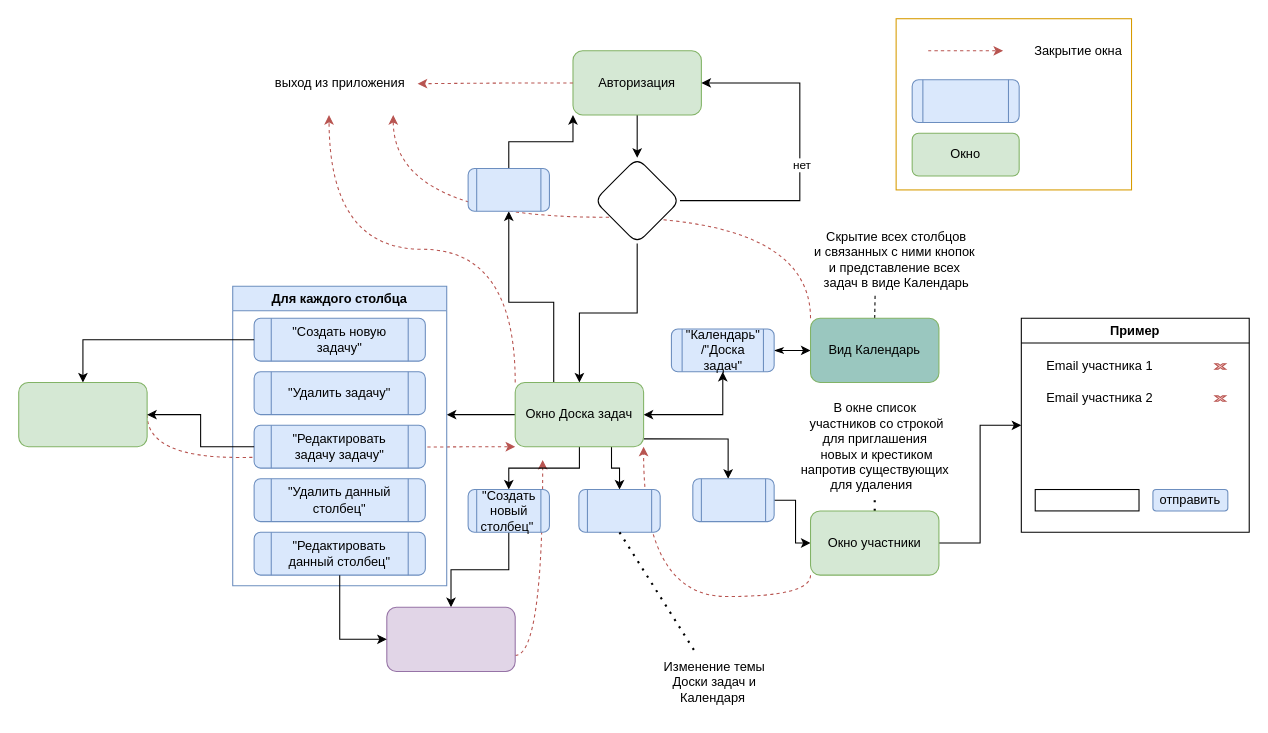
The diagram is 1268 pixels wide and 733 high, and some of its shapes have lost their labels. Each missing label, with the centre of its shape:
"Выйти из аккаунта": the point at 508,189
"Смена темы": the point at 619,510
"Участники": the point at 733,500
Введите email...: the point at 1086,499
Кнопка: the point at 965,101
Окно Форма редактирования задачи: the point at 82,414
Успешно: the point at 636,200
Форма НА самом окне (событие по клику): the point at 450,638
